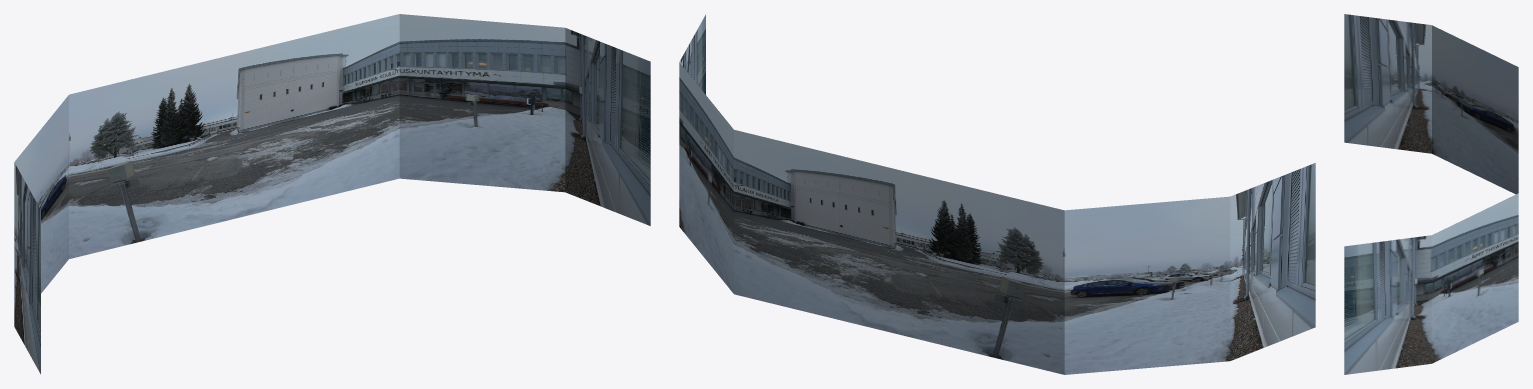
The model's file is MC_PihaRavintola.fbx.
The picture shows the model from 3 angles, left to right: view 1: azimuth 30°, elevation 25°; view 2: azimuth 150°, elevation 25°; view 3: azimuth 270°, elevation 25°; orthographic projection. The views are drawn at different scales.
Visible parts, largest first — view 1: Plane; view 2: Plane; view 3: Plane.
Part boxes in pixels (left/top/right/bottom): Plane: left=14, top=14, right=650, bottom=374; Plane: left=679, top=14, right=1315, bottom=374; Plane: left=1344, top=14, right=1518, bottom=374.
Bounding box in the file's own units: 775 × 200 × 246.
